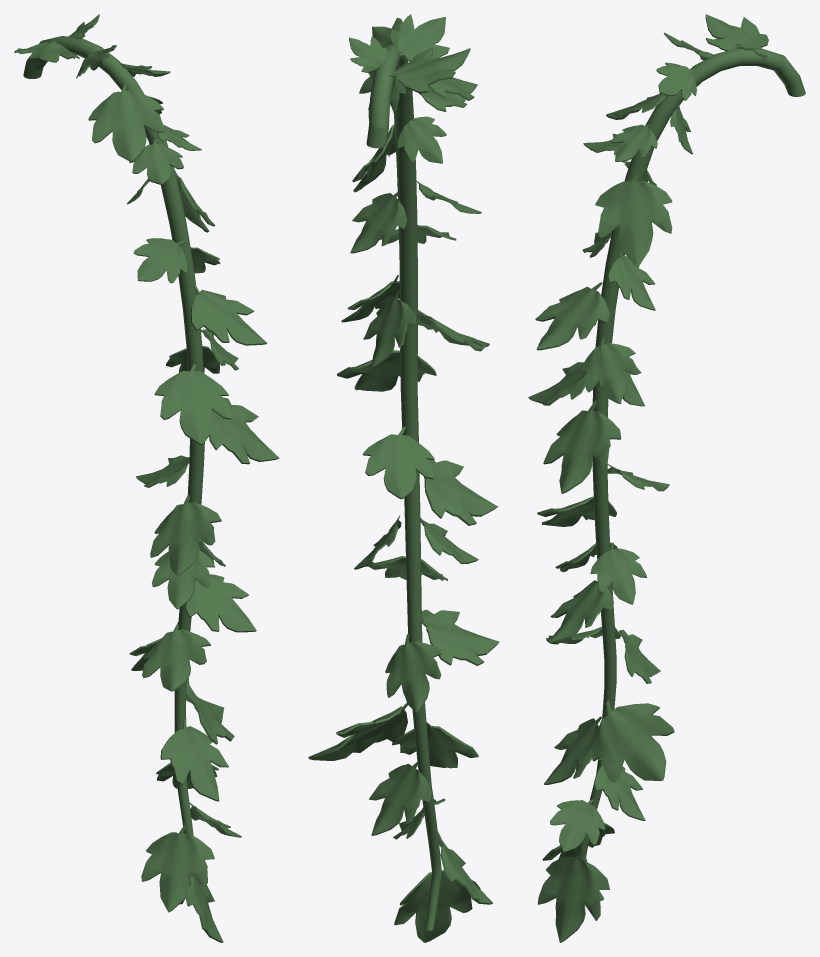
File: ivy2.fbx
3 views of the same model, side by side, from view 1: azimuth 30°, elevation 25°; view 2: azimuth 150°, elevation 25°; view 3: azimuth 270°, elevation 25° (orthographic). The views are drawn at different scales.
Visible parts, largest first — view 1: pCylinder3, pPlane43, pPlane28, pPlane53, pPlane34, pPlane42, pPlane39, pPlane32, pPlane33, pPlane29, pPlane38, pPlane36 (+7 smaller); view 2: pCylinder3, pPlane37, pPlane44, pPlane40, pPlane46, pPlane34, pPlane39, pPlane41, pPlane48, pPlane31, pPlane57, pPlane29 (+18 smaller); view 3: pCylinder3, pPlane41, pPlane47, pPlane44, pPlane29, pPlane32, pPlane30, pPlane35, pPlane33, pPlane45, pPlane42, pPlane57 (+7 smaller).
Part boxes in pixels (x1,y1,x2,y2): pCylinder3: [23, 36, 204, 904]; pPlane43: [141, 825, 214, 912]; pPlane28: [154, 364, 231, 444]; pPlane53: [88, 84, 164, 161]; pPlane34: [150, 494, 221, 576]; pPlane42: [160, 718, 228, 801]; pPlane39: [142, 622, 210, 691]; pPlane32: [191, 284, 266, 345]; pPlane33: [185, 574, 256, 632]; pPlane29: [209, 397, 279, 464]; pPlane38: [133, 238, 187, 283]; pPlane36: [152, 550, 214, 609]; pCylinder3: [366, 44, 441, 930]; pPlane37: [362, 426, 434, 499]; pPlane44: [394, 870, 480, 942]; pPlane40: [385, 633, 441, 712]; pPlane46: [369, 762, 431, 835]; pPlane34: [424, 459, 497, 525]; pPlane39: [416, 609, 499, 665]; pPlane41: [308, 703, 407, 760]; pPlane48: [350, 192, 407, 253]; pPlane31: [363, 290, 415, 367]; pPlane57: [389, 47, 470, 93]; pPlane29: [337, 349, 436, 391]; pCylinder3: [578, 48, 805, 900]; pPlane41: [592, 700, 674, 782]; pPlane47: [595, 174, 672, 266]; pPlane44: [537, 853, 609, 942]; pPlane29: [543, 400, 621, 493]; pPlane32: [535, 282, 610, 350]; pPlane30: [580, 336, 638, 403]; pPlane35: [590, 542, 646, 604]; pPlane33: [548, 580, 613, 643]; pPlane45: [550, 799, 604, 852]; pPlane42: [544, 716, 601, 784]; pPlane57: [705, 14, 768, 51].
Bounding box in the file's own units: 41.45 × 197 × 56.35.
